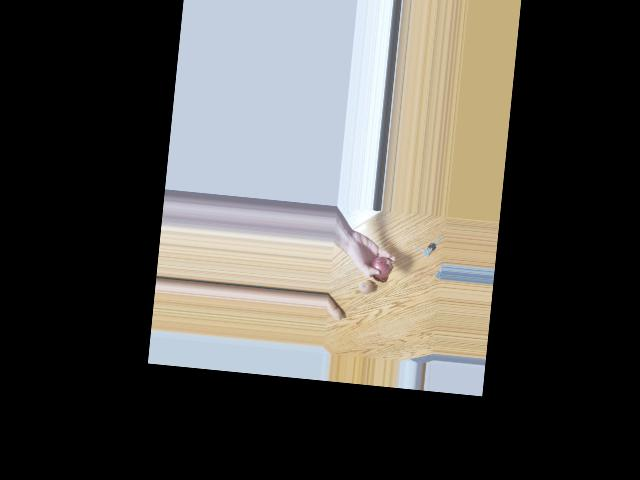onion: (355, 275, 374, 293)
